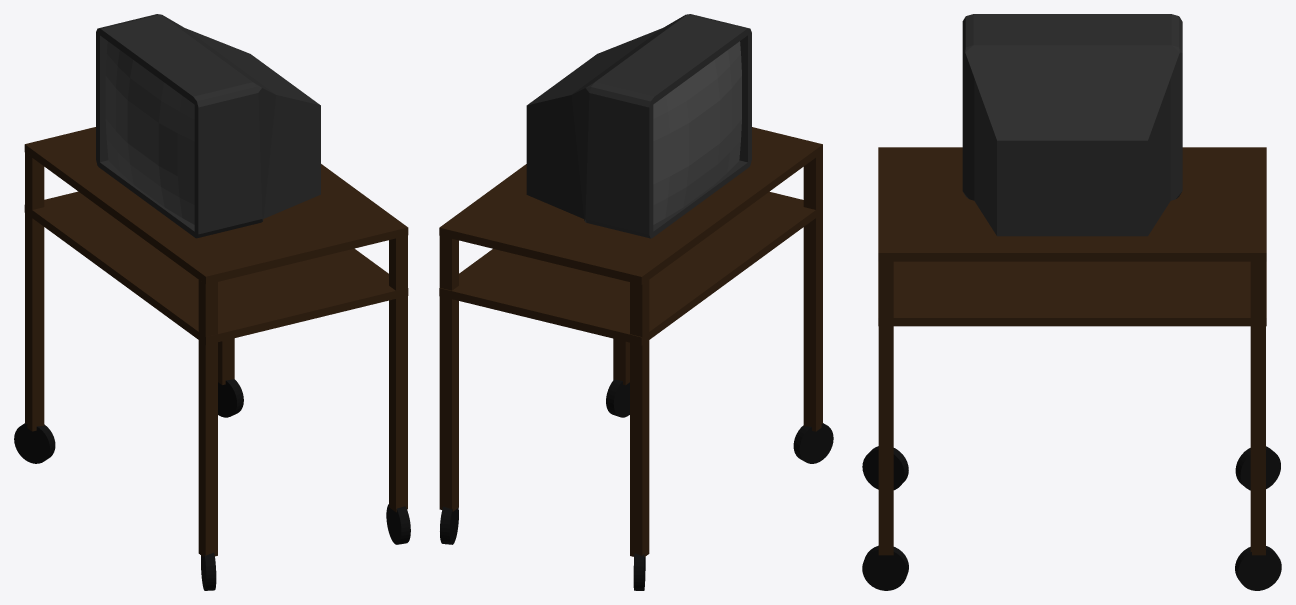
File: TV stand en TV.fbx
3 renders of one model, left to right at view 1: azimuth 30°, elevation 25°; view 2: azimuth 150°, elevation 25°; view 3: azimuth 270°, elevation 25°, orthographic. The views are drawn at different scales.
Parts seen in each view (by area): view 1: Cube.098, Cube.077, Cube.061, Cube.099, Cube.097, Cube.096, Cube.094, Cylinder.022, Cylinder.021, Cylinder.020, Cube.095, Cylinder.019; view 2: Cube.098, Cube.077, Cube.061, Cube.099, Cube.096, Cube.095, Cube.097, Cylinder.019, Cylinder.020, Cube.094, Cylinder.021; view 3: Cube.098, Cube.061, Cube.077, Cube.094, Cube.095, Cylinder.020, Cylinder.021, Cylinder.019, Cylinder.022.
Boxes of the visible parts, box(x1,y1,x2,y2) form: Cube.098: box(96, 14, 320, 238); Cube.077: box(24, 191, 408, 344); Cube.061: box(24, 127, 408, 284); Cube.099: box(105, 41, 194, 224); Cube.097: box(198, 280, 217, 557); Cube.096: box(25, 152, 44, 431); Cube.094: box(389, 235, 407, 512); Cylinder.022: box(14, 423, 55, 463); Cylinder.021: box(218, 379, 243, 417); Cylinder.020: box(386, 504, 410, 544); Cube.095: box(218, 338, 234, 384); Cylinder.019: box(201, 552, 216, 590); Cube.098: box(526, 14, 751, 238); Cube.077: box(439, 191, 815, 345); Cube.061: box(439, 127, 822, 284); Cube.099: box(653, 41, 741, 224); Cube.096: box(630, 280, 649, 556); Cube.095: box(439, 236, 458, 511); Cube.097: box(803, 152, 822, 431); Cylinder.019: box(793, 423, 833, 463); Cylinder.020: box(606, 379, 629, 417); Cube.094: box(613, 338, 629, 385); Cylinder.021: box(440, 506, 458, 544); Cube.098: box(962, 14, 1182, 236); Cube.061: box(878, 147, 1266, 261); Cube.077: box(878, 261, 1266, 326); Cube.094: box(878, 261, 893, 555); Cube.095: box(1250, 261, 1265, 555); Cylinder.020: box(862, 545, 908, 590); Cylinder.021: box(1235, 546, 1281, 590); Cylinder.019: box(862, 446, 908, 490); Cylinder.022: box(1235, 446, 1280, 490).
Size of the model in its own units: 210 by 431 by 335.
